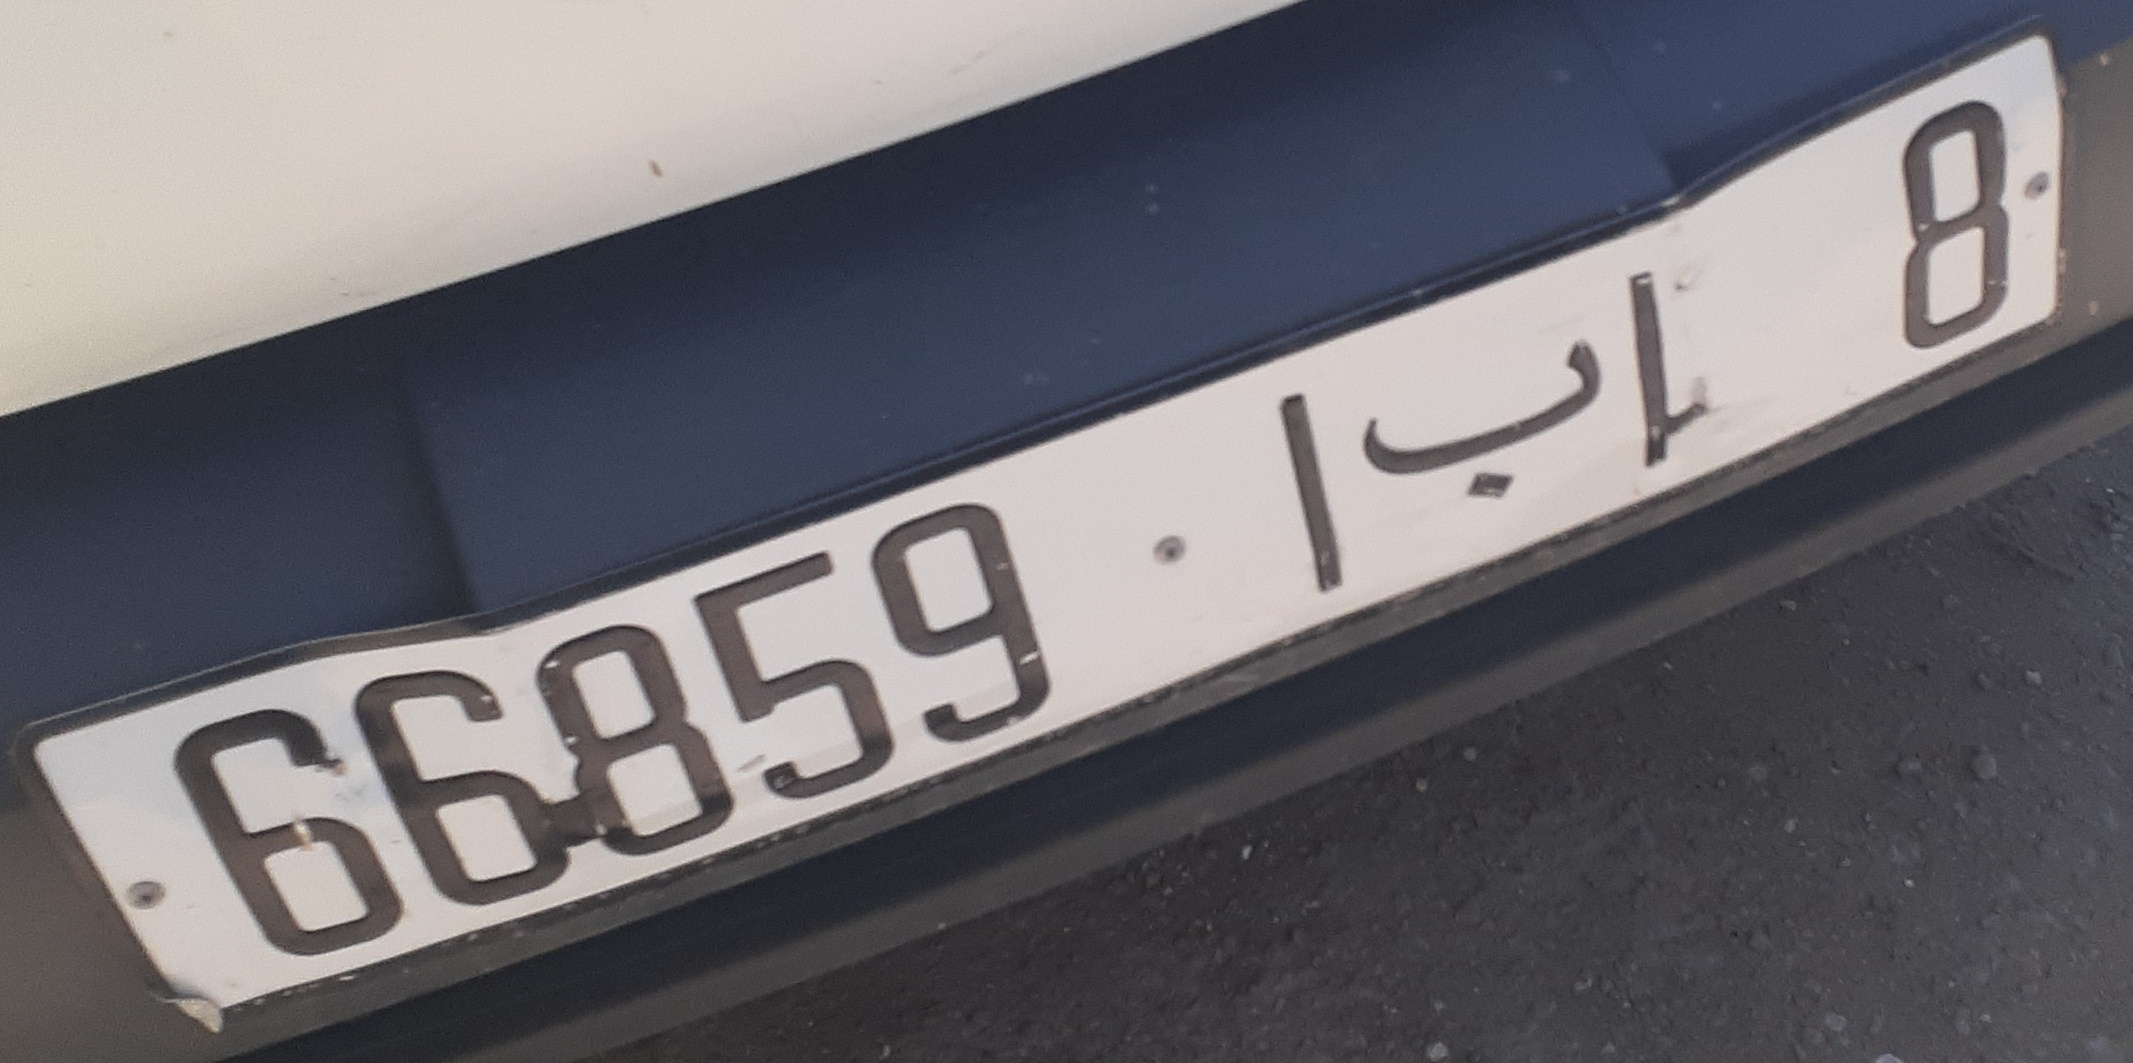5: (702, 511, 884, 851)
6: (164, 678, 422, 961), (362, 634, 576, 945)
8: (529, 574, 739, 873), (1875, 71, 2032, 354)
9: (871, 461, 1066, 763)
b: (1340, 329, 1620, 514)
